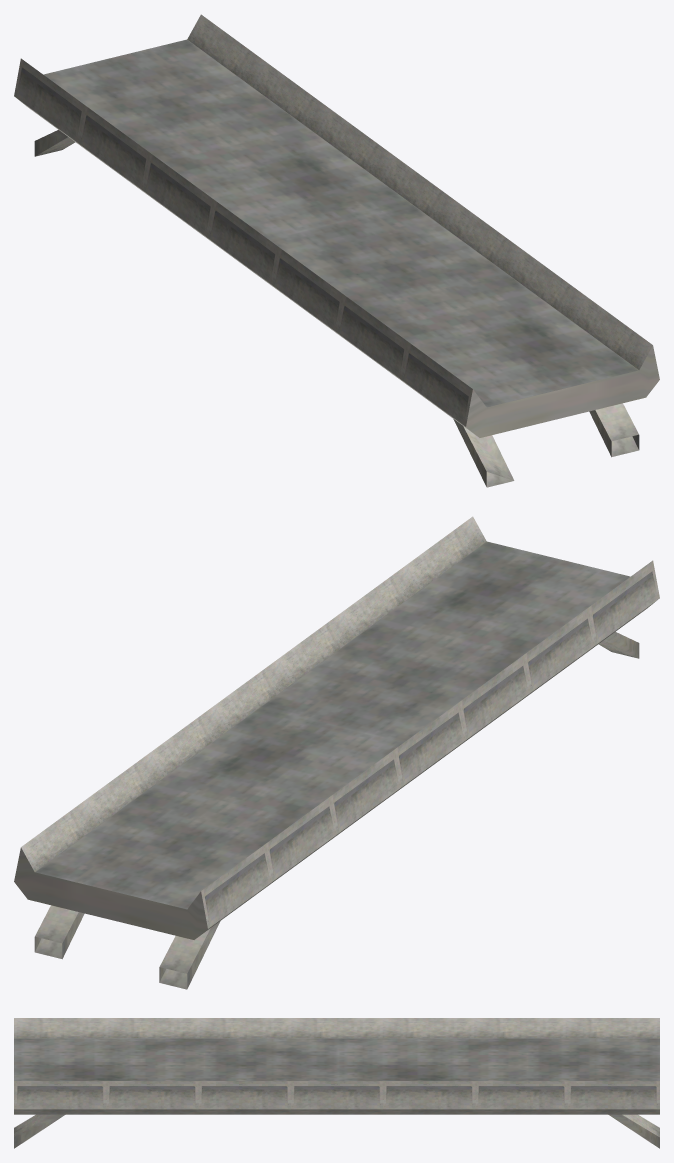
Rendered from thm_corl_imprv_bridge_lg_s02_l3.fbx.
3 views of the same model, one above another, from view 1: azimuth 30°, elevation 25°; view 2: azimuth 150°, elevation 25°; view 3: azimuth 270°, elevation 25° (orthographic). The views are drawn at different scales.
Parts seen in each view (by area): view 1: mesh_node; view 2: mesh_node; view 3: mesh_node.
Part boxes in pixels (bbox=[...]): mesh_node: bbox=[14, 14, 659, 487]; mesh_node: bbox=[14, 516, 659, 989]; mesh_node: bbox=[14, 1018, 659, 1148].
Size of the model in its own units: 7 by 3.51 by 28.25.
1 material, 1 textured.
